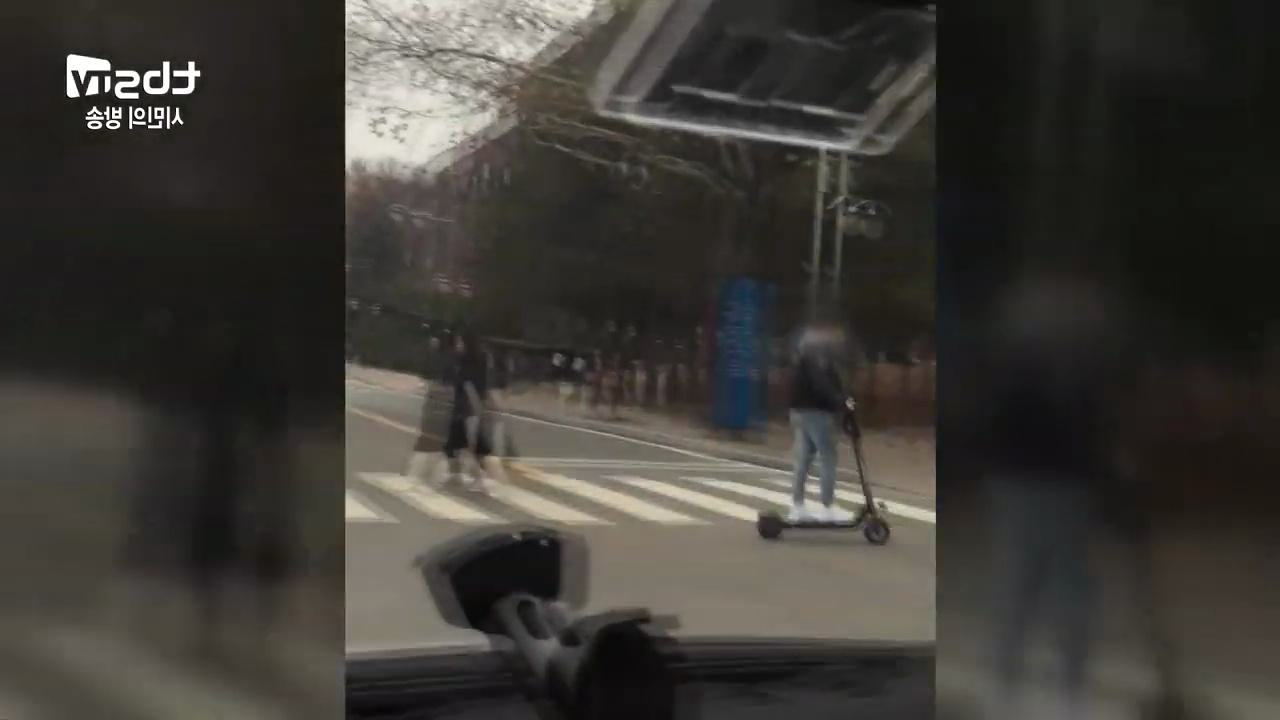nonhelmet: (745, 312, 895, 546)
